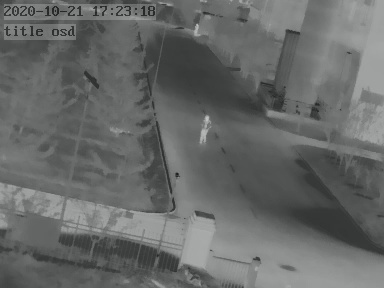person: (201, 111, 214, 144), (193, 22, 199, 37)
